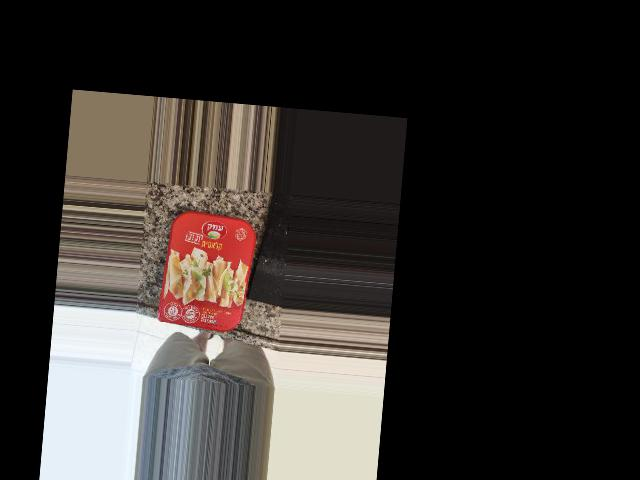cheese: (164, 243, 265, 358)
